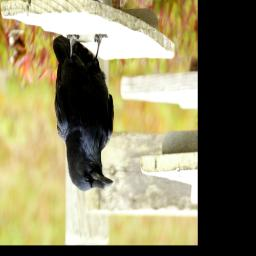Crow: (52, 33, 115, 192)
